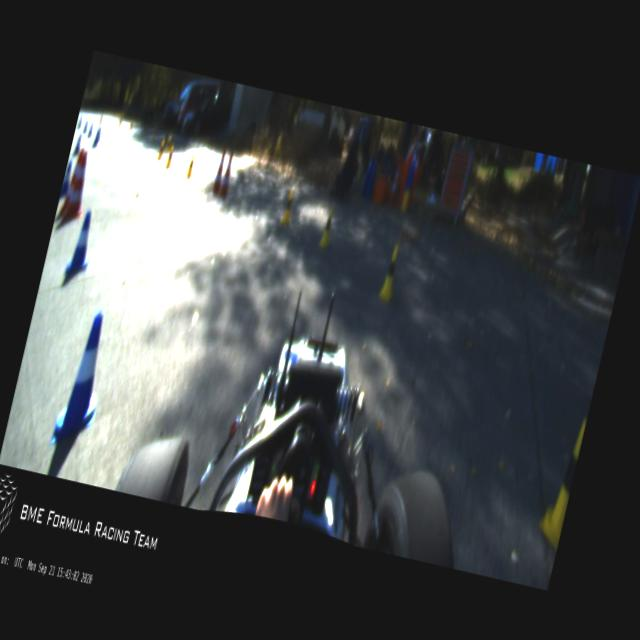blue_cone: (50, 308, 117, 451), (64, 209, 98, 278), (60, 162, 74, 197), (74, 133, 83, 155), (92, 128, 101, 147), (86, 122, 94, 138)
large_orange_cone: (62, 148, 95, 224), (58, 146, 84, 218), (217, 150, 237, 200), (210, 148, 228, 194)
yellow_cone: (533, 416, 585, 552), (377, 243, 404, 302), (318, 205, 337, 249), (280, 187, 296, 224), (184, 154, 194, 178), (166, 146, 174, 168), (156, 140, 164, 162), (164, 134, 172, 154), (151, 122, 159, 140), (128, 120, 134, 132), (117, 116, 123, 128), (98, 113, 103, 126)
